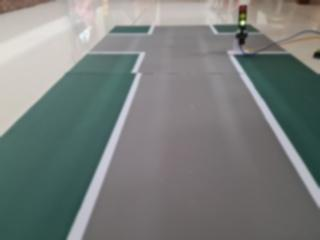green: (233, 1, 252, 32)
